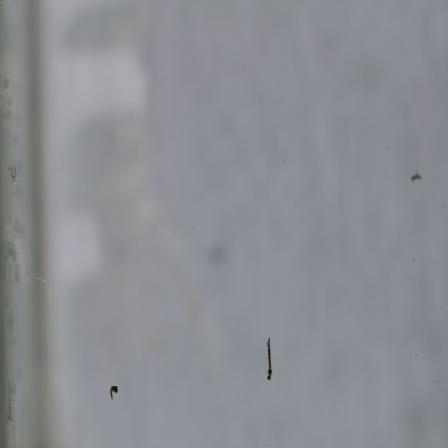Jentik-Nyamuk: (261, 335, 278, 383), (107, 382, 121, 405)
